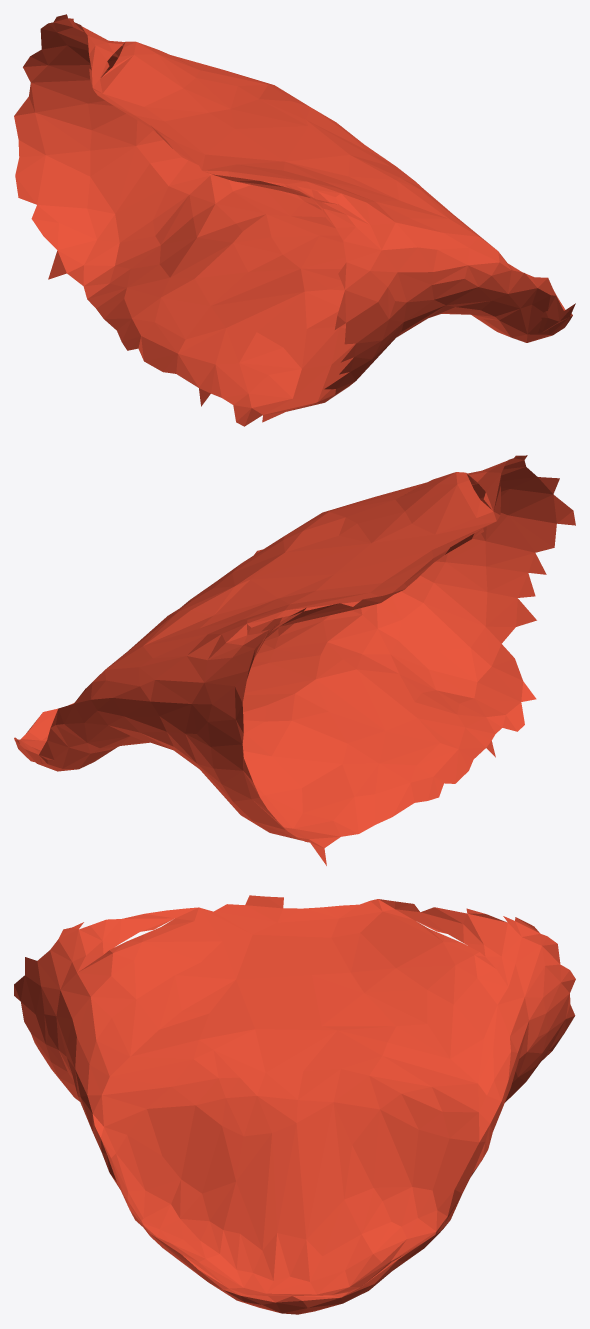
Rendered from tongue.fbx.
3 renders of one model, top to bottom at view 1: azimuth 30°, elevation 25°; view 2: azimuth 150°, elevation 25°; view 3: azimuth 270°, elevation 25°, orthographic. The views are drawn at different scales.
Visible parts, largest first — view 1: tongue; view 2: tongue; view 3: tongue.
Part boxes in pixels (box(x1,y1,x2,y2)): tongue: box(14, 14, 575, 426); tongue: box(14, 455, 575, 865); tongue: box(14, 895, 575, 1314).
Bounding box in the file's own units: 40.54 × 20.6 × 29.81.
